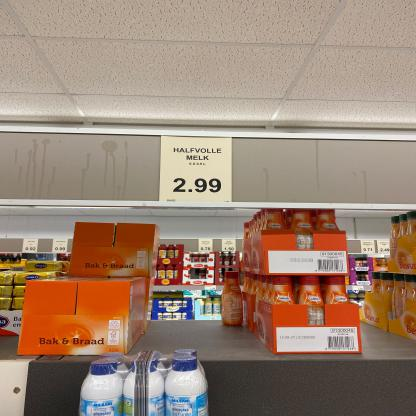prtg: (159, 137, 233, 204)
